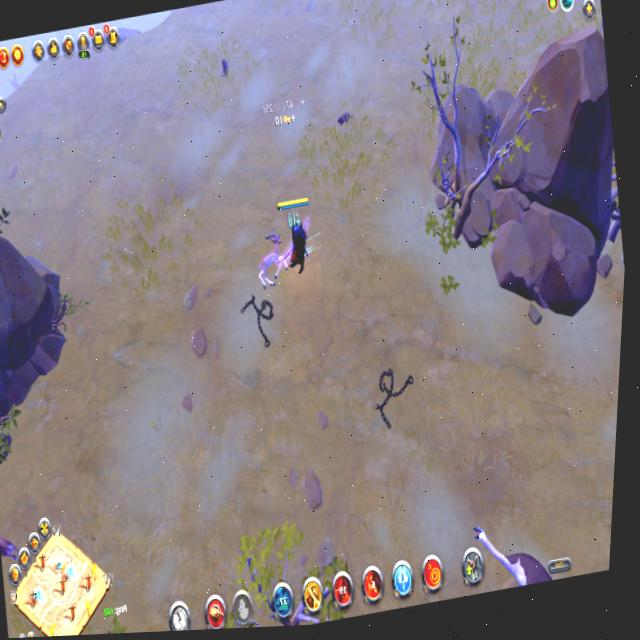mob: (463, 497, 564, 595), (249, 224, 294, 293)
red: (269, 190, 325, 284)
